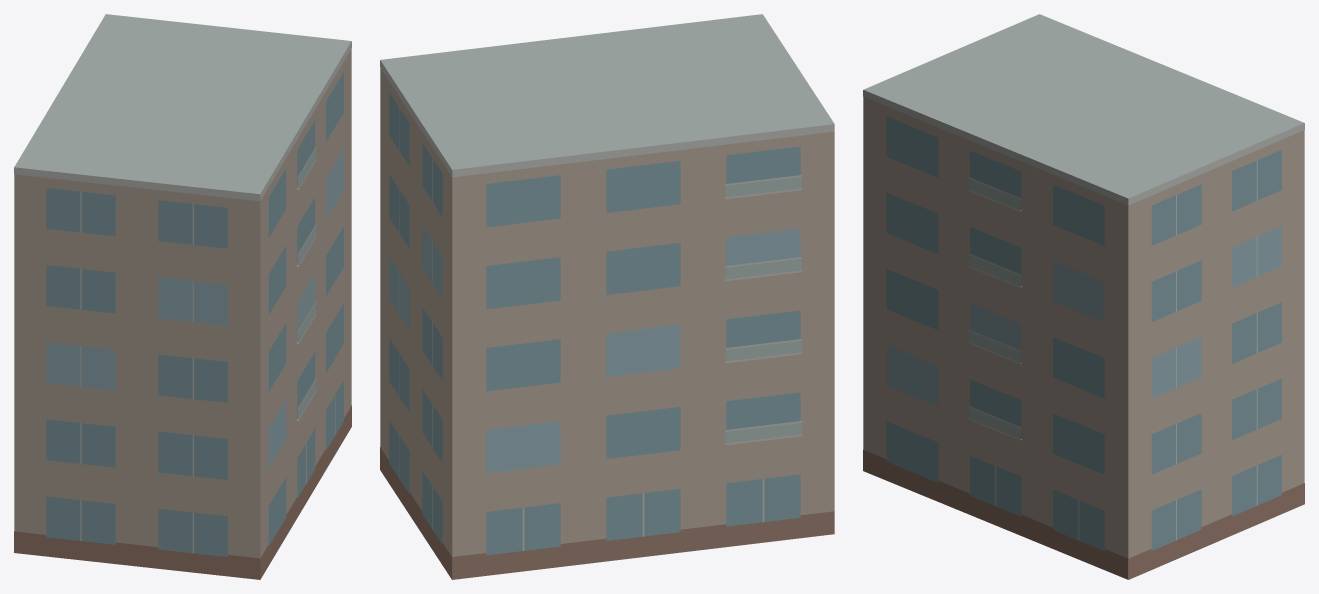
Rendered from survey-upis-32722605.glb.
3 views of the same model, side by side, from view 1: azimuth 30°, elevation 25°; view 2: azimuth 150°, elevation 25°; view 3: azimuth 270°, elevation 25° (orthographic). The views are drawn at different scales.
Parts seen in each view (by area): view 1: survey-upis-32722605.tmp; view 2: survey-upis-32722605.tmp; view 3: survey-upis-32722605.tmp.
Boxes of the visible parts, <box> form: survey-upis-32722605.tmp: <box>14,14,351,579</box>; survey-upis-32722605.tmp: <box>380,14,834,579</box>; survey-upis-32722605.tmp: <box>863,14,1304,579</box>.
Size of the model in its own units: 13.97 by 13.45 by 14.12.
